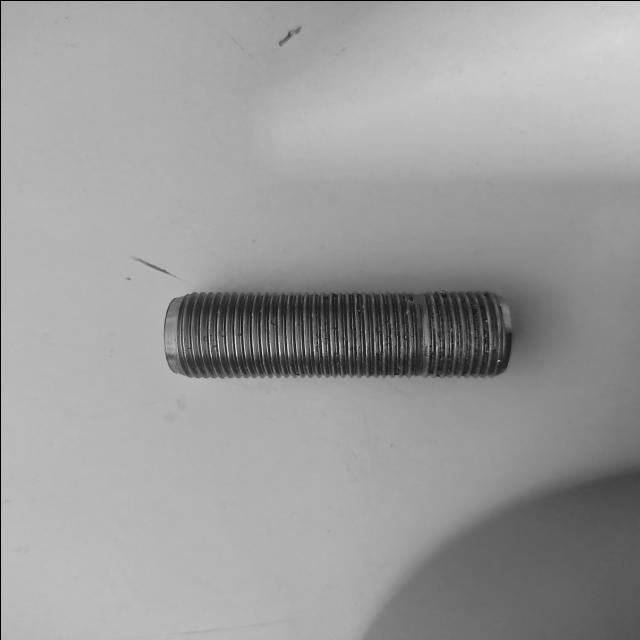Broken: (162, 288, 512, 378)
